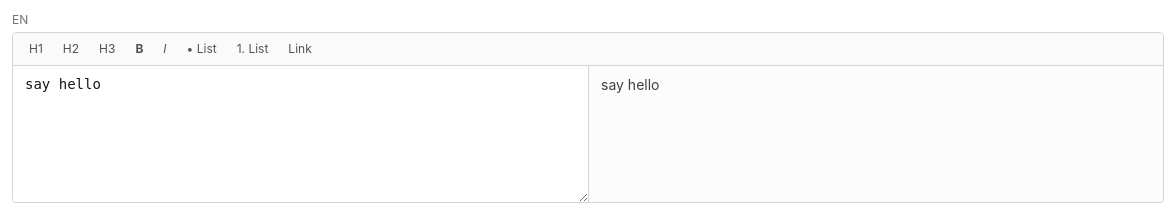
it: MarkdownEditor › bolds the selection from the toolbar
Click the button "B".
click(139, 49)  # box [127,39,151,59]
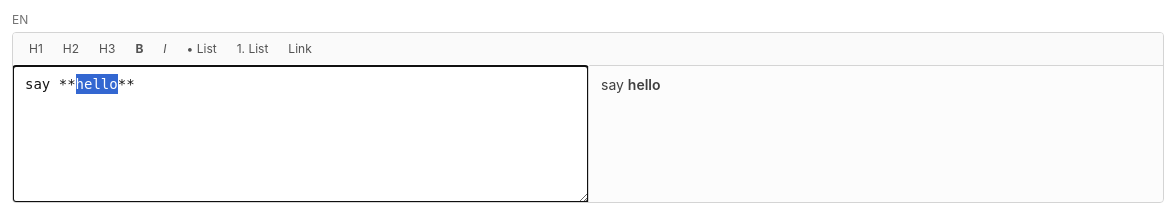
Now the text box labelled "EN" holds "say **hello**", box [13,66,588,202]
